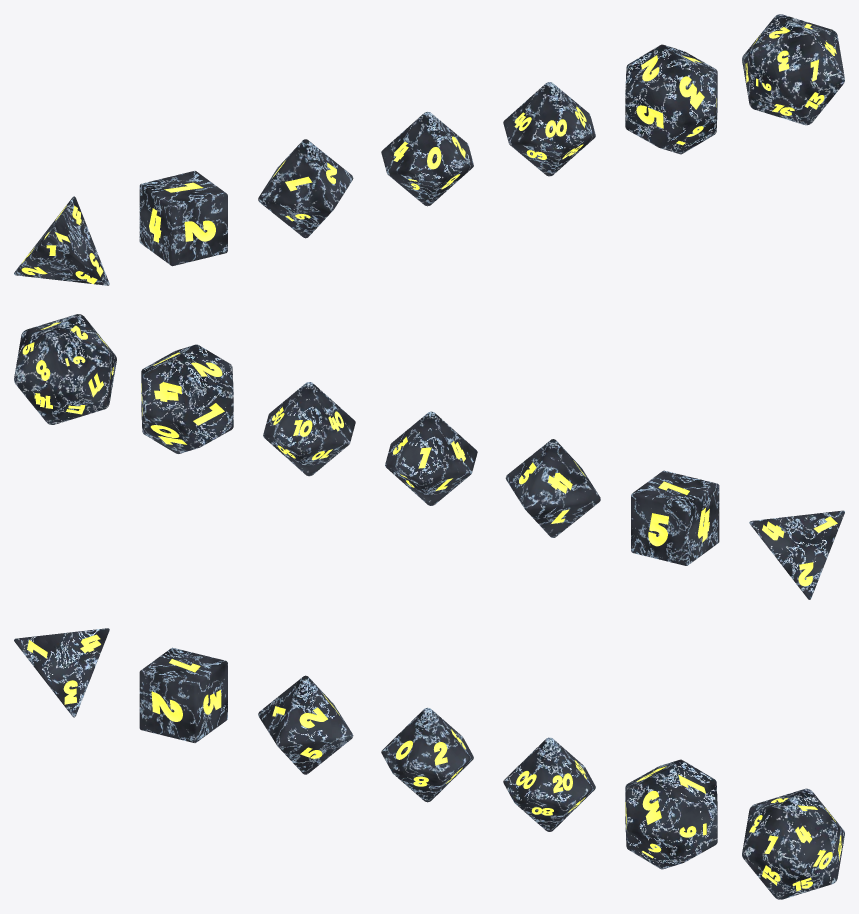
Rendered from stormcaller.glb.
3 views of the same model, one above another, from view 1: azimuth 30°, elevation 25°; view 2: azimuth 150°, elevation 25°; view 3: azimuth 330°, elevation 25° (orthographic).
Visible parts, largest first — view 1: d20, d12, d6, d100, d10, d8, d4; view 2: d20, d12, d6, d100, d10, d8, d4; view 3: d20, d12, d6, d8, d10, d100, d4.
Boxes of the visible parts, left/top/right/bottom form: d20: left=742, top=14, right=844, bottom=125; d12: left=625, top=44, right=717, bottom=154; d6: left=139, top=171, right=227, bottom=266; d100: left=503, top=82, right=595, bottom=176; d10: left=381, top=111, right=473, bottom=206; d8: left=258, top=139, right=353, bottom=238; d4: left=14, top=196, right=109, bottom=285; d20: left=14, top=314, right=116, bottom=424; d12: left=141, top=344, right=233, bottom=453; d6: left=631, top=470, right=719, bottom=565; d100: left=263, top=382, right=355, bottom=476; d10: left=385, top=411, right=477, bottom=505; d8: left=505, top=439, right=600, bottom=537; d4: left=749, top=510, right=844, bottom=599; d20: left=742, top=788, right=844, bottom=899; d12: left=625, top=759, right=717, bottom=869; d6: left=139, top=647, right=227, bottom=742; d8: left=258, top=675, right=353, bottom=774; d10: left=381, top=707, right=473, bottom=802; d100: left=503, top=737, right=595, bottom=831; d4: left=14, top=628, right=109, bottom=717.
Size of the model in its own units: 21.14 by 2.47 by 2.47.
Materials: 14 (7 with a texture image).
